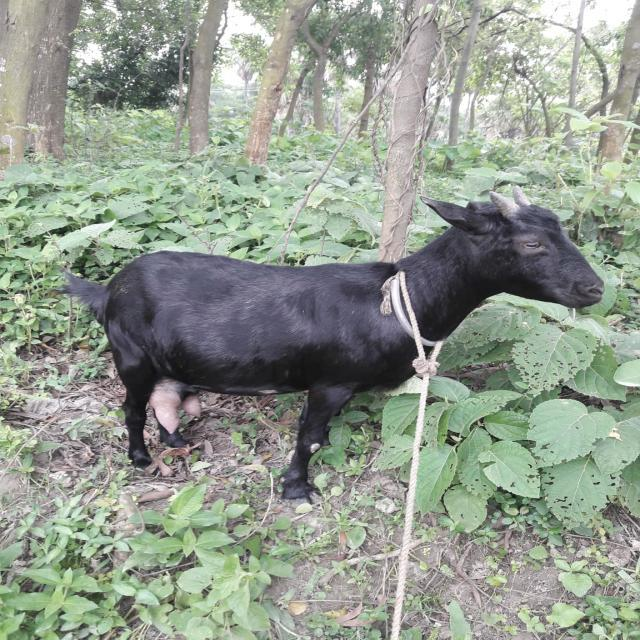Goat: (55, 183, 606, 507)
